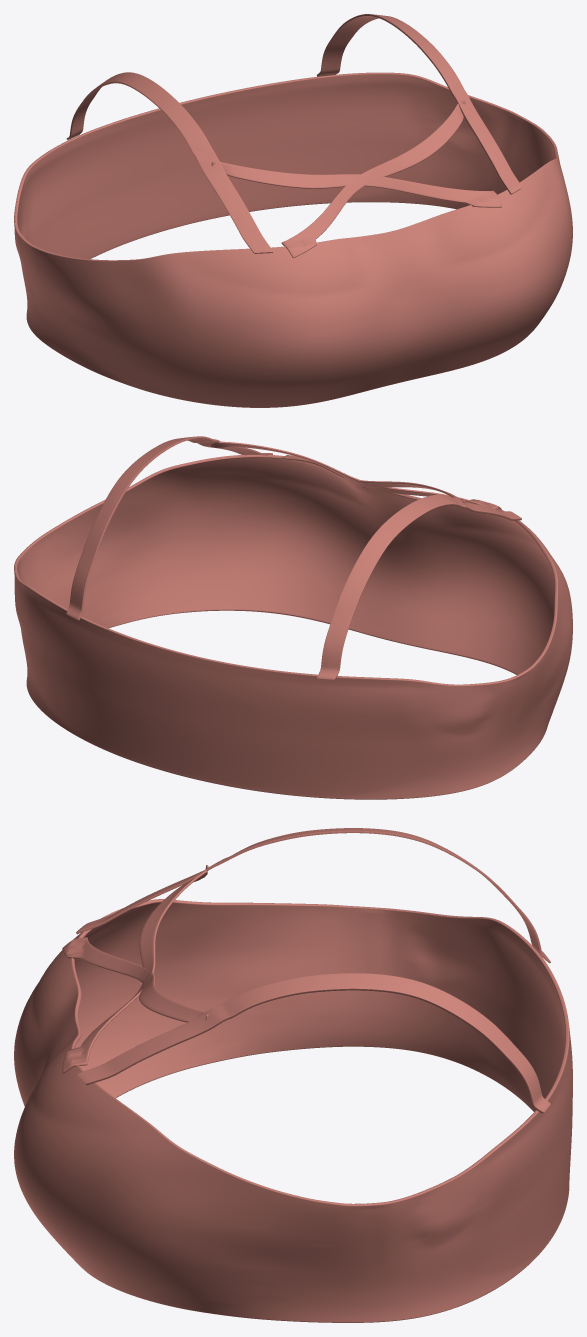
Rendered from Feminine-strappy-top.glb.
3 renders of one model, top to bottom at view 1: azimuth 30°, elevation 25°; view 2: azimuth 150°, elevation 25°; view 3: azimuth 270°, elevation 25°, orthographic. The views are drawn at different scales.
Parts seen in each view (by area): view 1: Clothing / strappy body, Clothing / Crop sewn strap201 -1, Clothing / Crop sewn strap201 1, Crop / sewn crossed strap201 -1, Crop / sewn crossed strap201 1; view 2: Clothing / strappy body, Clothing / Crop sewn strap201 -1, Clothing / Crop sewn strap201 1, Crop / sewn crossed strap201 1, Crop / sewn crossed strap201 -1; view 3: Clothing / strappy body, Clothing / Crop sewn strap201 1, Clothing / Crop sewn strap201 -1, Crop / sewn crossed strap201 1, Crop / sewn crossed strap201 -1.
Boxes of the visible parts, bbox=[...] form: Clothing / strappy body: bbox=[14, 72, 572, 407]; Clothing / Crop sewn strap201 -1: bbox=[66, 72, 272, 253]; Clothing / Crop sewn strap201 1: bbox=[317, 14, 521, 194]; Crop / sewn crossed strap201 -1: bbox=[211, 161, 501, 207]; Crop / sewn crossed strap201 1: bbox=[281, 100, 465, 258]; Clothing / strappy body: bbox=[14, 455, 572, 799]; Clothing / Crop sewn strap201 -1: bbox=[317, 494, 521, 679]; Clothing / Crop sewn strap201 1: bbox=[66, 436, 272, 620]; Crop / sewn crossed strap201 1: bbox=[211, 441, 501, 509]; Crop / sewn crossed strap201 -1: bbox=[281, 455, 465, 508]; Clothing / strappy body: bbox=[14, 899, 572, 1322]; Clothing / Crop sewn strap201 1: bbox=[76, 973, 550, 1113]; Clothing / Crop sewn strap201 -1: bbox=[76, 828, 550, 963]; Crop / sewn crossed strap201 1: bbox=[62, 937, 208, 1022]; Crop / sewn crossed strap201 -1: bbox=[62, 865, 208, 1073].
Bounding box in the file's own units: 0.6211 × 0.2873 × 0.4894.
